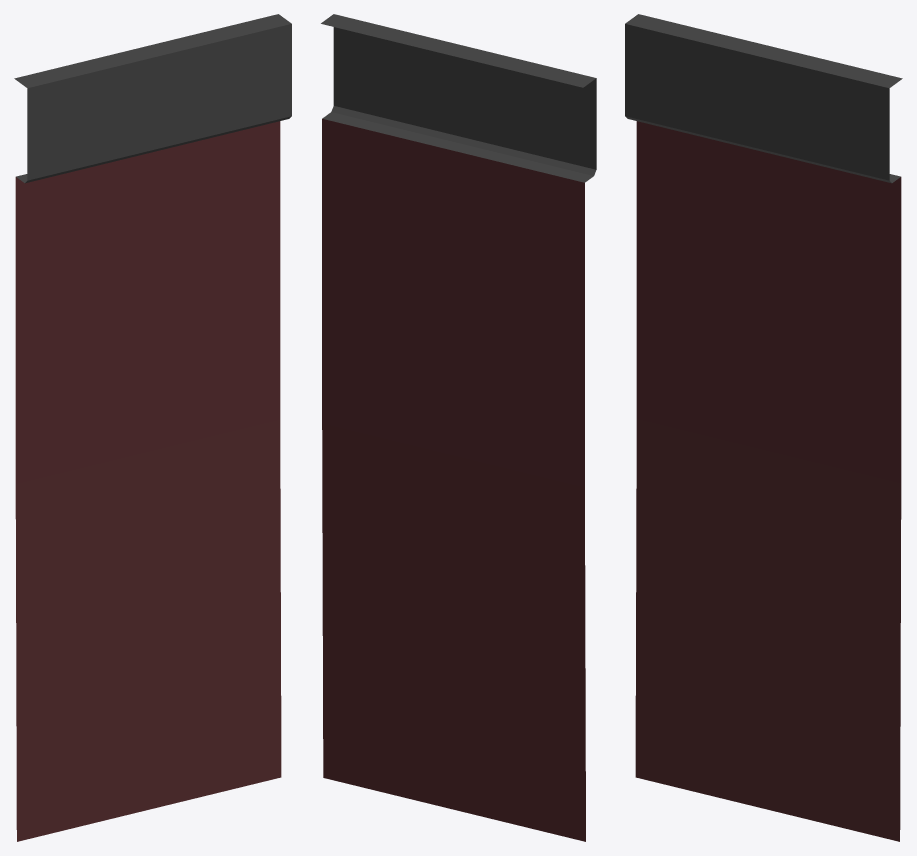
The model's file is Y_WallTop.fbx.
The picture shows the model from 3 angles, left to right: view 1: azimuth 30°, elevation 25°; view 2: azimuth 150°, elevation 25°; view 3: azimuth 330°, elevation 25°; orthographic projection.
Visible parts, largest first — view 1: P_Doorway.100; view 2: P_Doorway.100; view 3: P_Doorway.100.
Part boxes in pixels (bbox=[...]): P_Doorway.100: bbox=[14, 14, 291, 841]; P_Doorway.100: bbox=[321, 14, 596, 841]; P_Doorway.100: bbox=[625, 14, 902, 841].
Bounding box in the file's own units: 400 × 1100 × 35.
